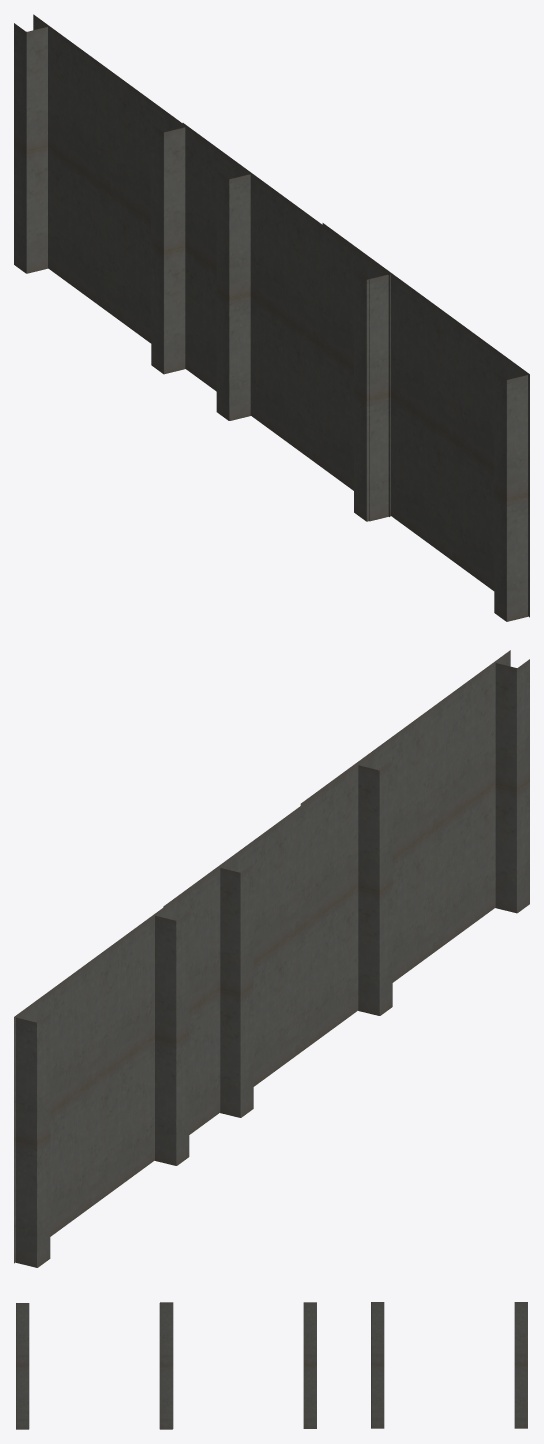
Rendered from decalstest.glb.
3 views of the same model, one above another, from view 1: azimuth 30°, elevation 25°; view 2: azimuth 150°, elevation 25°; view 3: azimuth 270°, elevation 25° (orthographic). The views are drawn at different scales.
Visible parts, largest first — view 1: walltest__3_, walltest__3_ (2), walltest__3_ (1); view 2: walltest__3_, walltest__3_ (1), walltest__3_ (2); view 3: walltest__3_, walltest__3_ (2), walltest__3_ (1).
Part boxes in pixels (x1,y1,x2,y2): walltest__3_: (14, 14, 240, 391); walltest__3_ (2): (322, 223, 529, 621); walltest__3_ (1): (182, 123, 389, 521); walltest__3_: (14, 863, 223, 1267); walltest__3_ (1): (163, 753, 392, 1117); walltest__3_ (2): (300, 650, 529, 982); walltest__3_: (371, 1302, 527, 1428); walltest__3_ (2): (16, 1303, 172, 1429); walltest__3_ (1): (160, 1302, 316, 1428).
Bounding box in the file's own units: 0.8884 × 8.02 × 29.4.
1 material, 1 textured.
